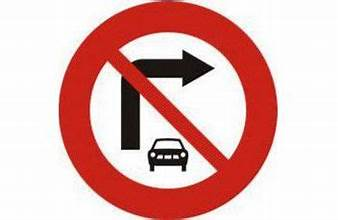No_turn_right: (53, 1, 297, 220)
